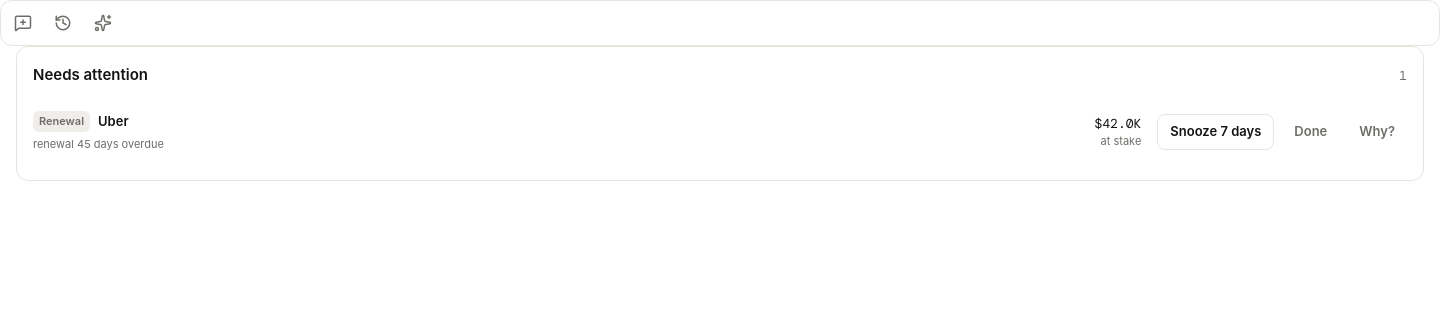
Test: "Why?" on an attention row › opens a collapsed rail and asks at once, about that item
Expected: the element "Ask Revenact" is not shown
Click the button with aria-label "Ask why Uber is on my list".
click(1377, 132)  # box x1=1347 y1=114 x2=1407 y2=150
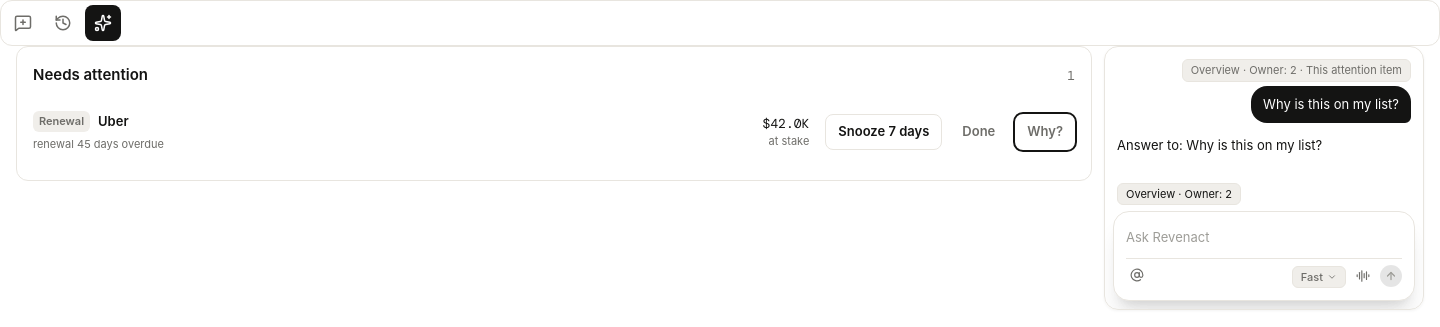
Now the element named "Ask Revenact" is shown, box x1=1104 y1=46 x2=1424 y2=310
Now the text "Answer to: Why is this on my list?" is shown, box x1=1117 y1=135 x2=1322 y2=156
